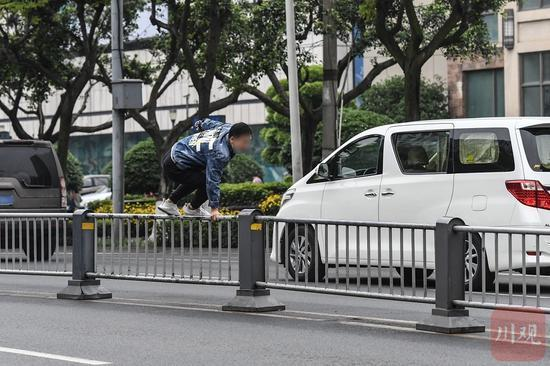car: (267, 117, 549, 289), (79, 175, 111, 209)
person: (156, 120, 256, 220)
truck: (0, 137, 74, 261)
